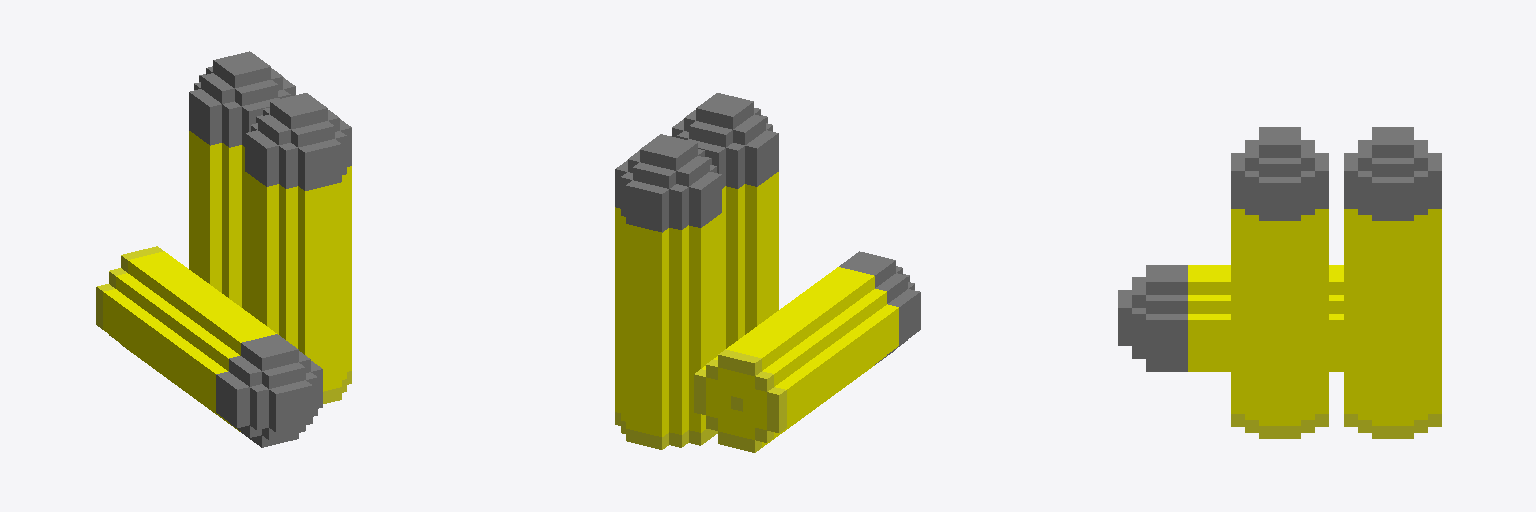
The picture shows the model from 3 angles: view 1: azimuth 30°, elevation 25°; view 2: azimuth 150°, elevation 25°; view 3: azimuth 270°, elevation 25°; orthographic projection.
Parts seen in each view (by area): view 1: object 1; view 2: object 1; view 3: object 1.
Boxes of the visible parts, x1,y1,x2,y2 form: object 1: [96, 51, 351, 447]; object 1: [615, 93, 920, 452]; object 1: [1118, 127, 1441, 438].
Size of the model in its own units: 1.4 by 2.2 by 2.3.
1 materials, 1 textured.